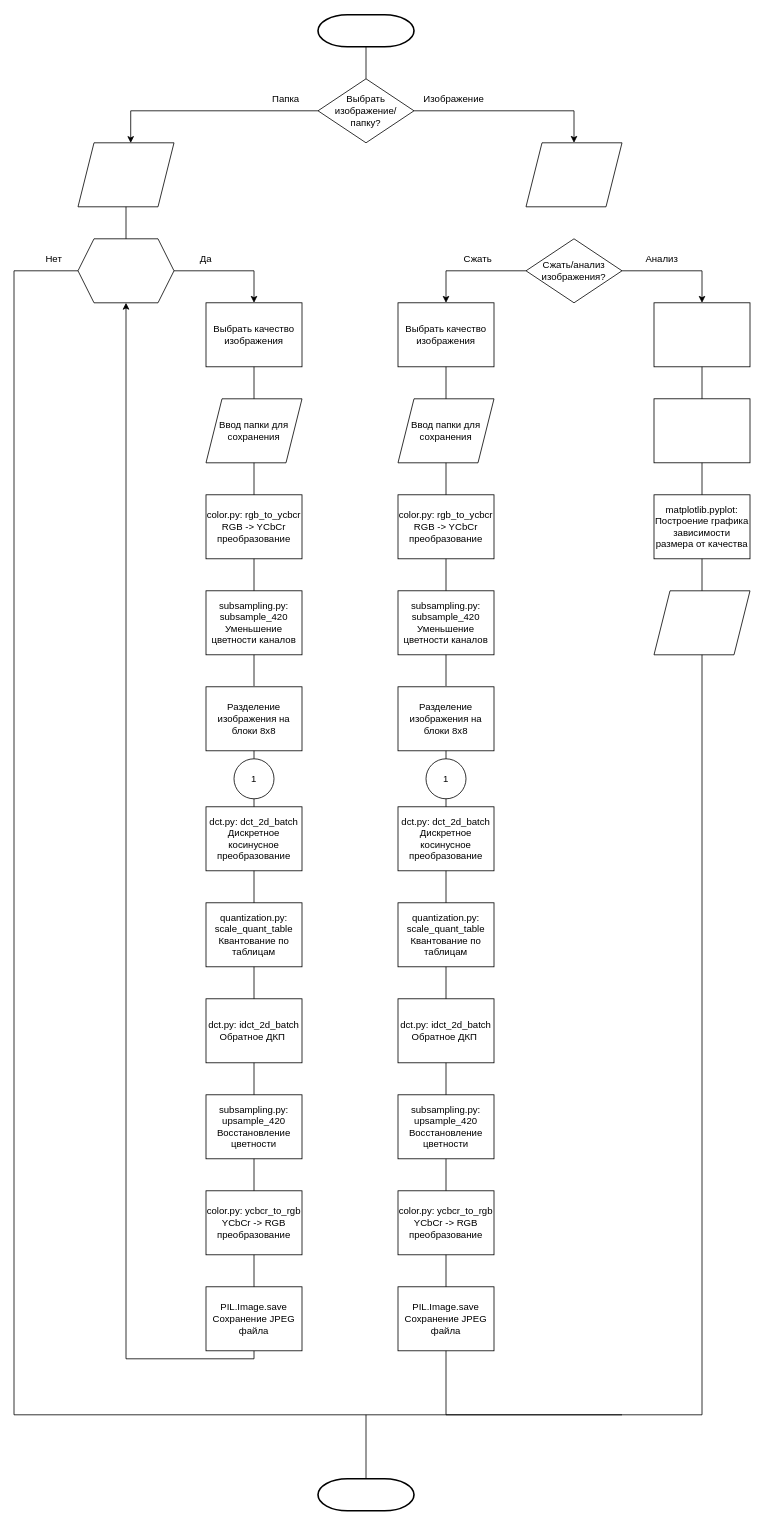
The diagram is 764 pixels wide and 1525 high, and some of its shapes have lost their labels. The centre of each missing label's shape, as x and y in pixels:
Ввод изображения: the point at 573,174
Ввод папки: the point at 125,174
Вывести график: the point at 701,622
Есть необработанные изображения?: the point at 125,270
Записать размеры сжатых изображений: the point at 701,430
Конец: the point at 365,1494
начало: the point at 365,30
Сжать изображение с разным качеством: the point at 701,334
